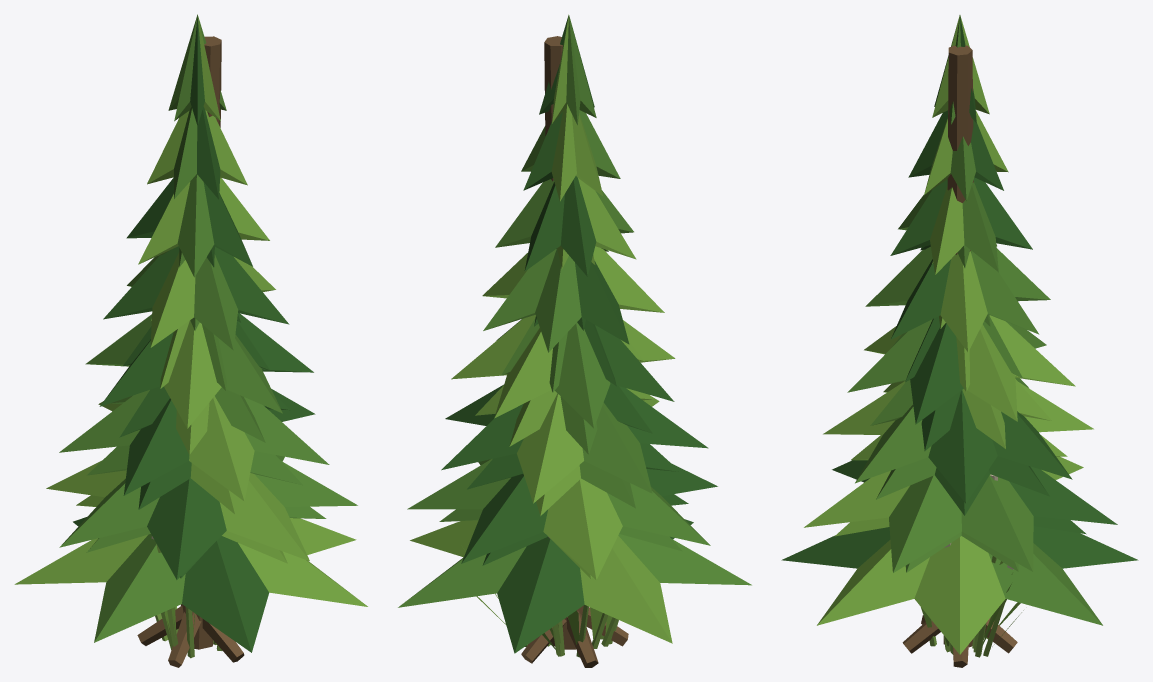
Rendered from tree-prototypes.glb.
3 renders of one model, left to right at view 1: azimuth 30°, elevation 25°; view 2: azimuth 150°, elevation 25°; view 3: azimuth 270°, elevation 25°, orthographic.
Visible parts, largest first — view 1: hm05_cypress_prototype_0, hm05_cypress_prototype_1, hm05_reed_prototype_1; view 2: hm05_cypress_prototype_0, hm05_cypress_prototype_1, hm05_reed_prototype_1, hm05_reed_prototype_0; view 3: hm05_cypress_prototype_0, hm05_cypress_prototype_1, hm05_reed_prototype_0, hm05_reed_prototype_1.
Boxes of the visible parts, bbox=[...] form: hm05_cypress_prototype_0: bbox=[14, 14, 367, 667]; hm05_cypress_prototype_1: bbox=[76, 178, 326, 649]; hm05_reed_prototype_1: bbox=[151, 536, 213, 658]; hm05_cypress_prototype_0: bbox=[398, 14, 751, 667]; hm05_cypress_prototype_1: bbox=[439, 245, 688, 645]; hm05_reed_prototype_1: bbox=[463, 536, 618, 656]; hm05_reed_prototype_0: bbox=[476, 596, 618, 657]; hm05_cypress_prototype_0: bbox=[781, 15, 1138, 667]; hm05_cypress_prototype_1: bbox=[834, 174, 1086, 646]; hm05_reed_prototype_0: bbox=[921, 474, 1023, 656]; hm05_reed_prototype_1: bbox=[944, 543, 1020, 657].
Bounding box in the file's own units: 1.75 × 3.5 × 1.79.
